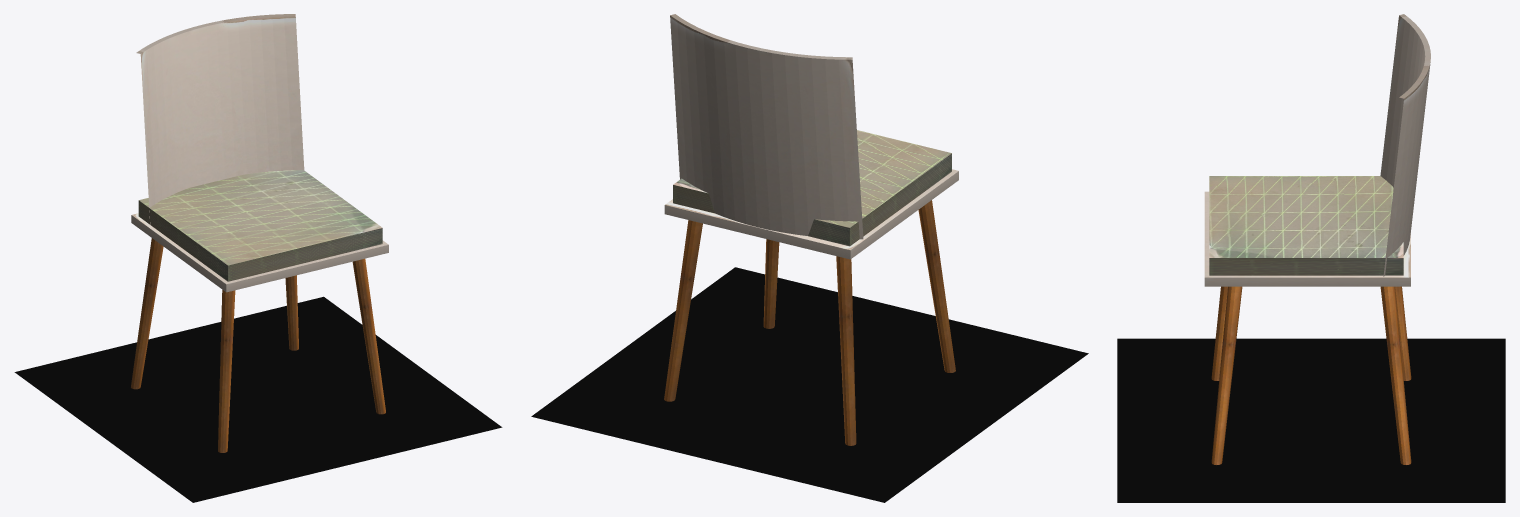
Rendered from chair.glb.
The picture shows the model from 3 angles, left to right: view 1: azimuth 30°, elevation 25°; view 2: azimuth 150°, elevation 25°; view 3: azimuth 270°, elevation 25°; orthographic projection. The views are drawn at different scales.
Parts seen in each view (by area): view 1: shadow, back, seat, legs; view 2: shadow, back, seat, legs; view 3: shadow, seat, back, legs.
Boxes of the visible parts, x1,y1,x2,y2 form: shadow: [14, 296, 502, 502]; back: [136, 14, 304, 224]; seat: [131, 170, 388, 292]; legs: [131, 238, 385, 452]; shadow: [531, 267, 1088, 502]; back: [670, 14, 863, 239]; seat: [664, 130, 958, 259]; legs: [664, 200, 955, 445]; shadow: [1117, 338, 1505, 502]; seat: [1204, 176, 1410, 286]; back: [1380, 14, 1430, 276]; legs: [1211, 286, 1411, 464].
Bounding box in the file's own units: 0.8 × 0.8315 × 0.8.
Materials: 10 (10 with a texture image).
